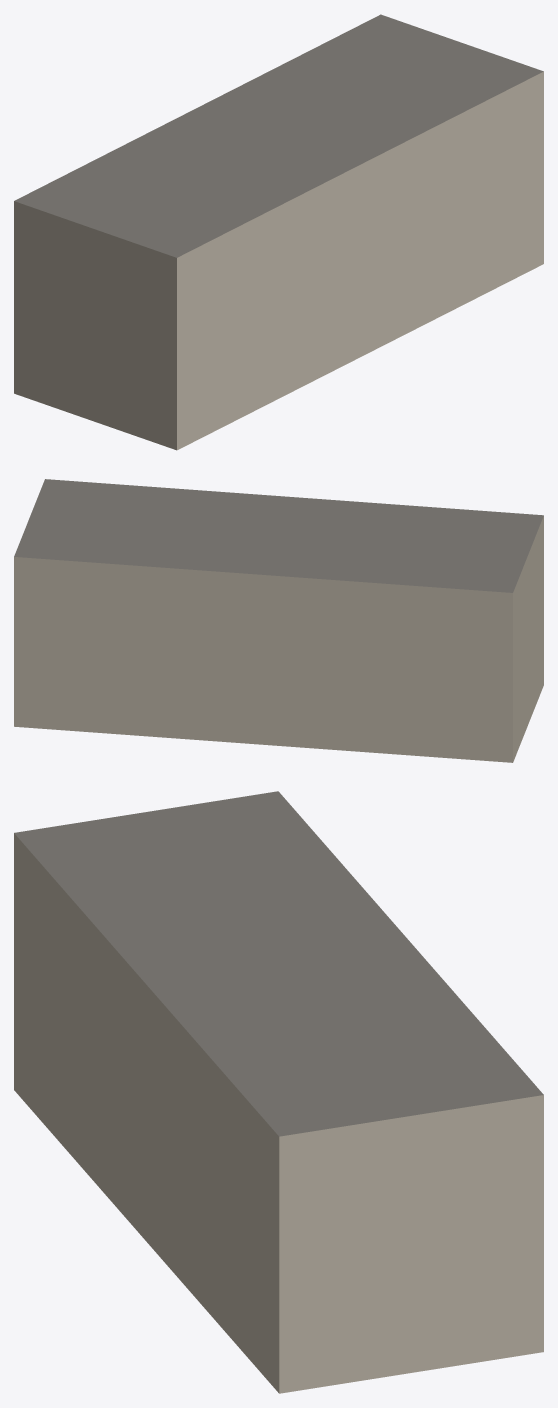
3 renders of one model, top to bottom at view 1: azimuth 30°, elevation 25°; view 2: azimuth 150°, elevation 25°; view 3: azimuth 270°, elevation 25°, orthographic. The views are drawn at different scales.
Visible parts, largest first — view 1: HP-w372180404; view 2: HP-w372180404; view 3: HP-w372180404.
Boxes of the visible parts, box(x1,y1,x2,y2) form: HP-w372180404: box(14, 14, 543, 450); HP-w372180404: box(14, 479, 543, 762); HP-w372180404: box(14, 791, 543, 1393).
Size of the model in its own units: 34.58 by 12 by 22.42.
